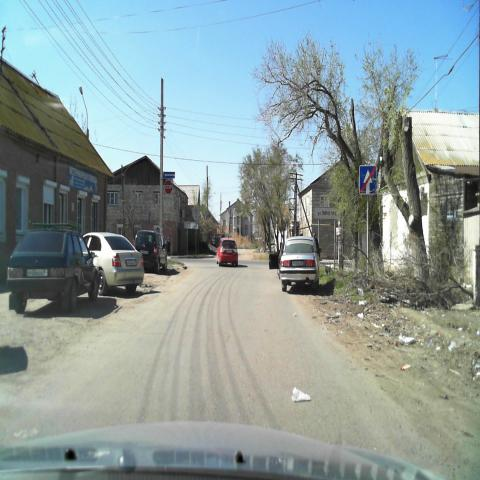2_5: (164, 179, 172, 194)
5_6: (358, 165, 376, 194)
5_7_2: (163, 170, 175, 178)
